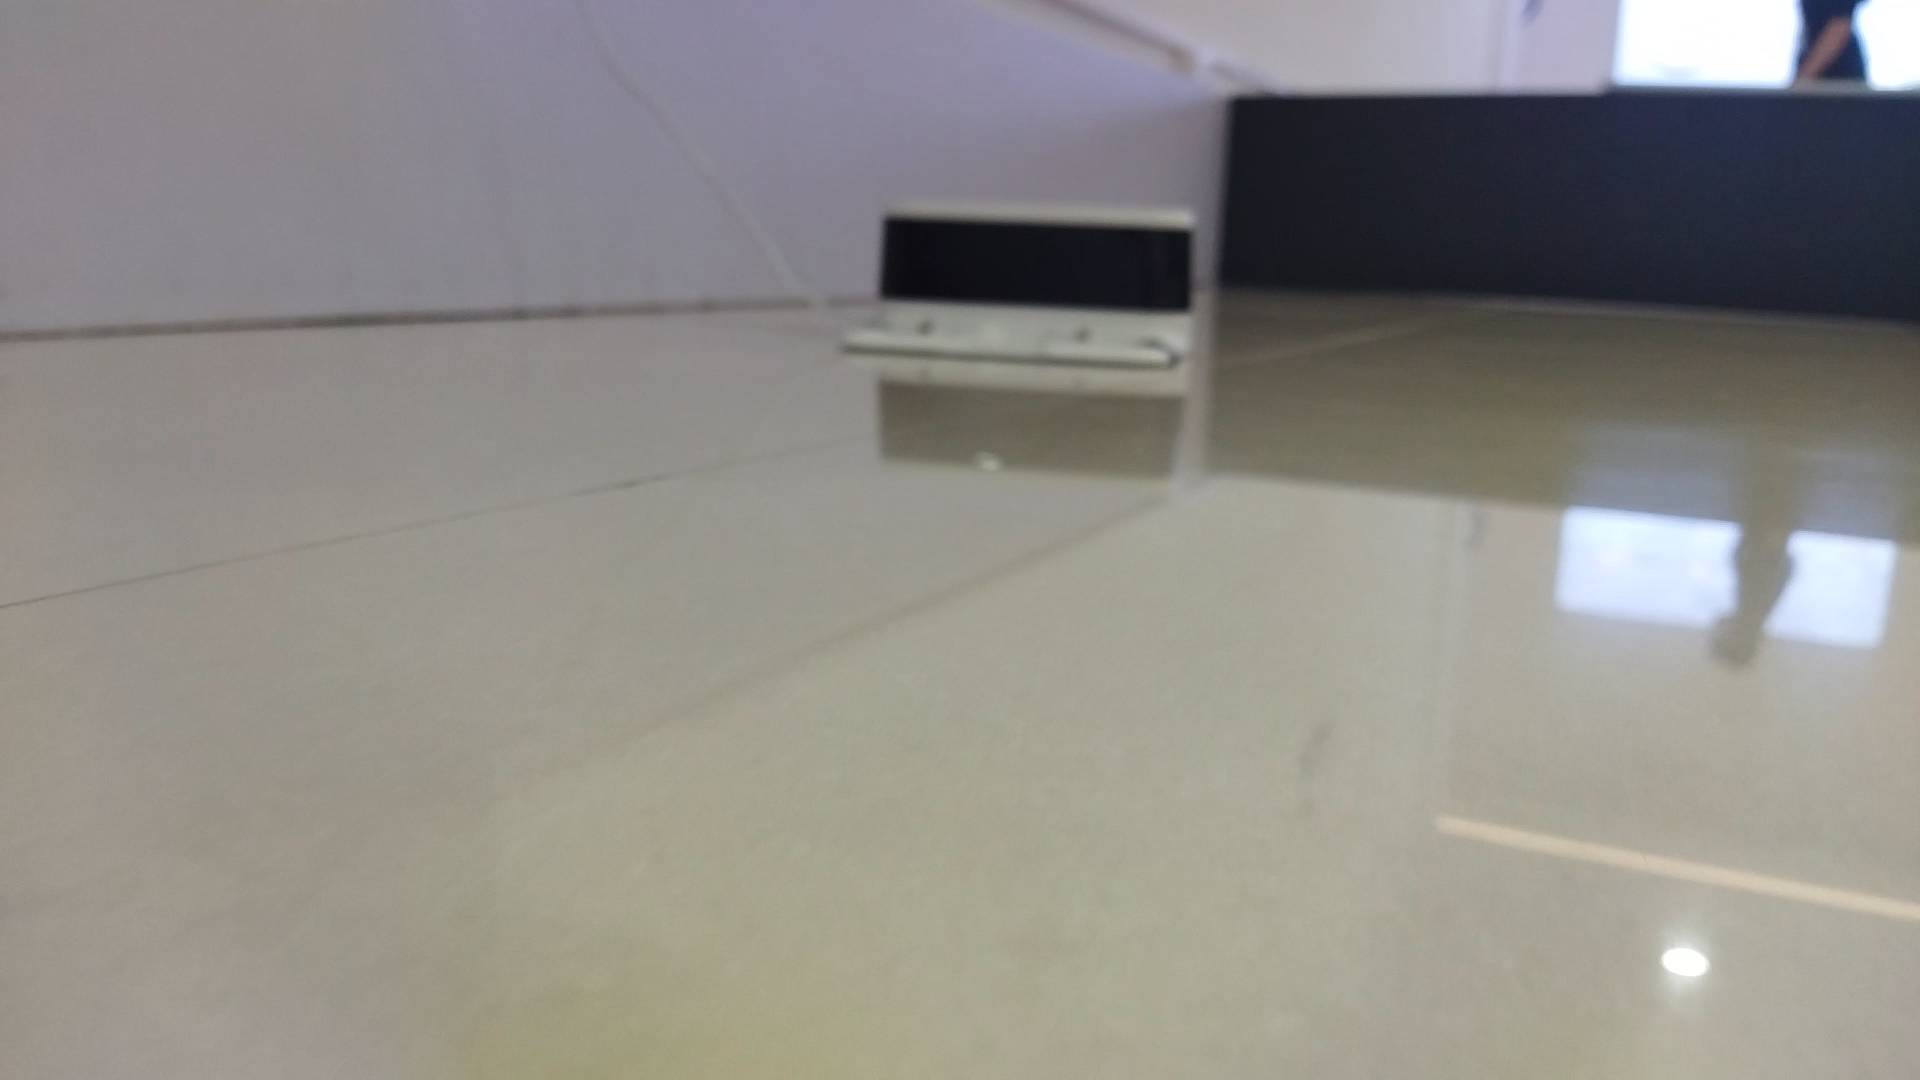recharge seat: (843, 199, 1197, 367)
